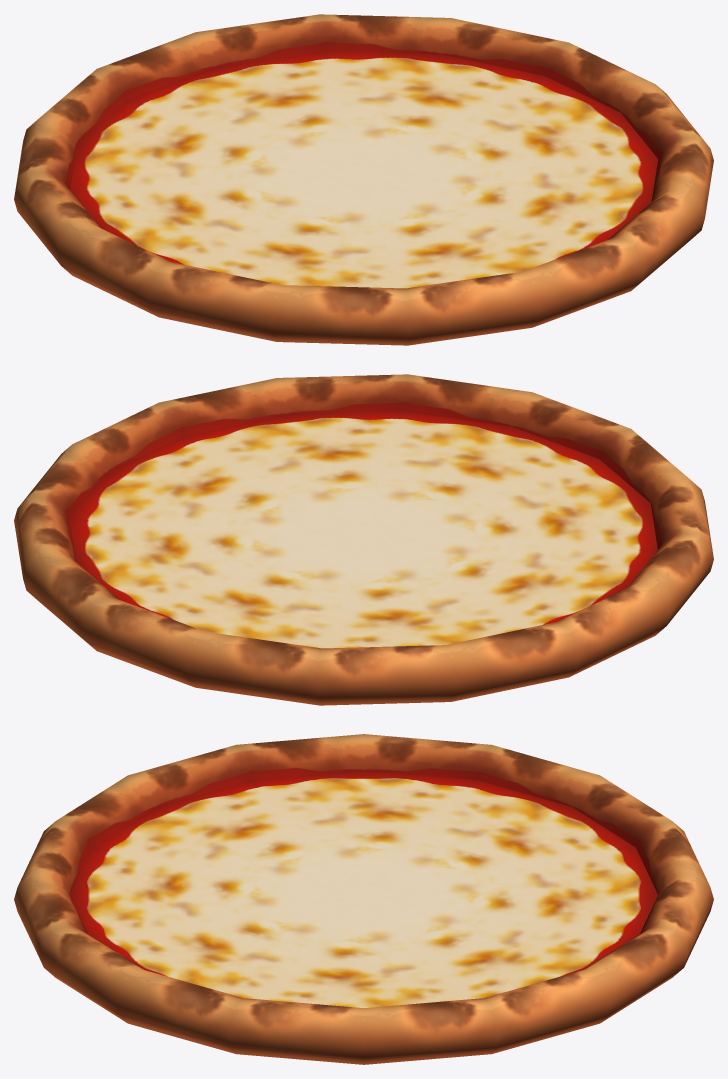
Rendered from Pizza_Base.fbx.
The picture shows the model from 3 angles, top to bottom: view 1: azimuth 30°, elevation 25°; view 2: azimuth 150°, elevation 25°; view 3: azimuth 270°, elevation 25°; orthographic projection.
Visible parts, largest first — view 1: Pizza_Base; view 2: Pizza_Base; view 3: Pizza_Base.
Boxes of the visible parts, left/top/right/bottom form: Pizza_Base: left=14, top=14, right=713, bottom=345; Pizza_Base: left=14, top=374, right=713, bottom=705; Pizza_Base: left=14, top=734, right=713, bottom=1064.
Bounding box in the file's own units: 170 × 13 × 170.
